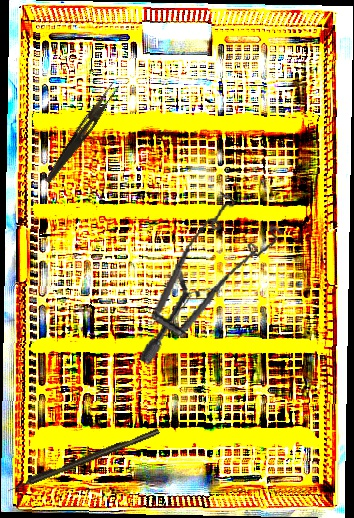Dressing Forceps: (43, 78, 121, 188)
Hook Surgical: (5, 427, 161, 494)
Speculum: (139, 183, 288, 382)
